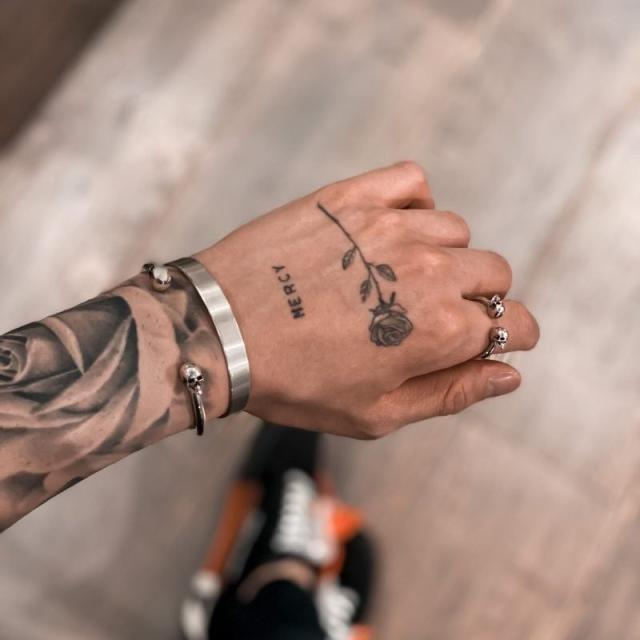Nail: (481, 370, 522, 397)
